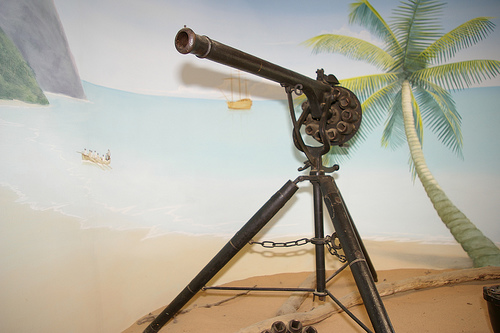rifle: (112, 8, 428, 333)
